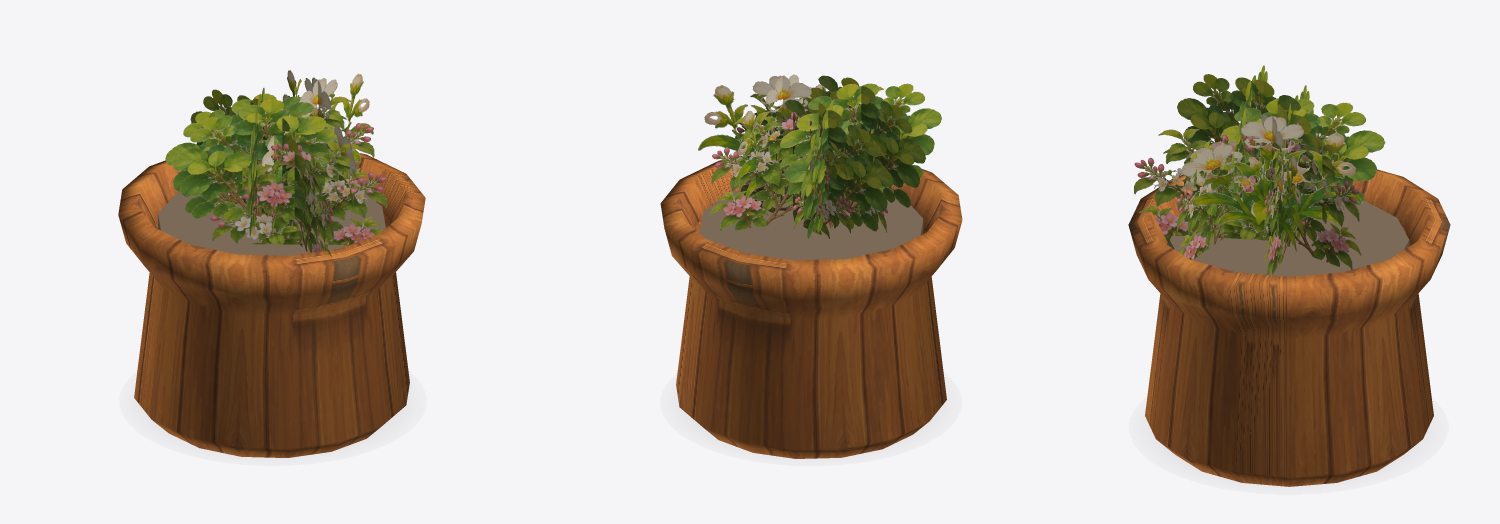
File: planter-large.glb
3 views of the same model, side by side, from view 1: azimuth 30°, elevation 25°; view 2: azimuth 150°, elevation 25°; view 3: azimuth 270°, elevation 25° (orthographic). The views are drawn at different scales.
Parts seen in each view (by area): view 1: pot, leafcard.001, leafcard.004, soil, leafcard.008, leafcard.003, leafcard.007, leafcard.005, leafcard.009, leafcard.006, leafcard.002; view 2: pot, soil, leafcard, leafcard.002, leafcard.008, leafcard.001, leafcard.005, leafcard.009, leafcard.007, leafcard.006; view 3: pot, leafcard.006, soil, leafcard.003, leafcard.002, leafcard, leafcard.007, leafcard.004, leafcard.005, leafcard.009, leafcard.001.
Boxes of the visible parts, <box> form: pot: <box>118,153,425,457</box>; leafcard.001: <box>172,99,343,228</box>; leafcard.004: <box>210,141,387,245</box>; soil: <box>158,182,385,255</box>; leafcard.008: <box>165,93,334,213</box>; leafcard.003: <box>285,138,334,273</box>; leafcard.007: <box>190,89,310,225</box>; leafcard.005: <box>261,73,373,182</box>; leafcard.009: <box>218,96,375,220</box>; leafcard.006: <box>282,70,356,203</box>; leafcard.002: <box>247,88,264,236</box>; pot: <box>660,156,962,458</box>; soil: <box>699,190,923,260</box>; leafcard: <box>709,109,862,231</box>; leafcard.002: <box>780,83,941,211</box>; leafcard.008: <box>763,99,893,231</box>; leafcard.001: <box>798,75,925,207</box>; leafcard.005: <box>698,75,855,173</box>; leafcard.009: <box>733,93,852,238</box>; leafcard.007: <box>801,99,844,238</box>; leafcard.006: <box>734,74,825,200</box>; pot: <box>1128,166,1450,486</box>; leafcard.006: <box>1181,116,1362,231</box>; soil: <box>1169,200,1409,276</box>; leafcard.003: <box>1134,128,1314,245</box>; leafcard.002: <box>1177,74,1326,202</box>; leafcard: <box>1223,129,1361,269</box>; leafcard.007: <box>1203,98,1385,207</box>; leafcard.004: <box>1176,125,1243,259</box>; leafcard.005: <box>1248,114,1303,251</box>; leafcard.009: <box>1263,122,1307,274</box>; leafcard.001: <box>1231,65,1267,214</box>.
Bounding box in the file's own units: 0.95 × 0.9761 × 0.95.
Materials: 6 (5 with a texture image).
